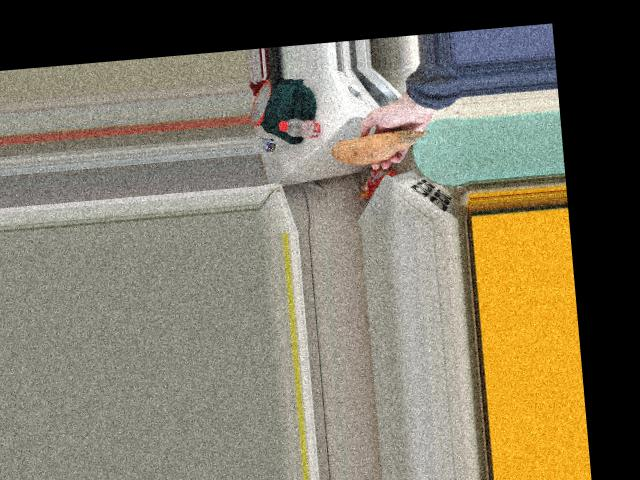sweet_potato: (339, 126, 418, 166)
